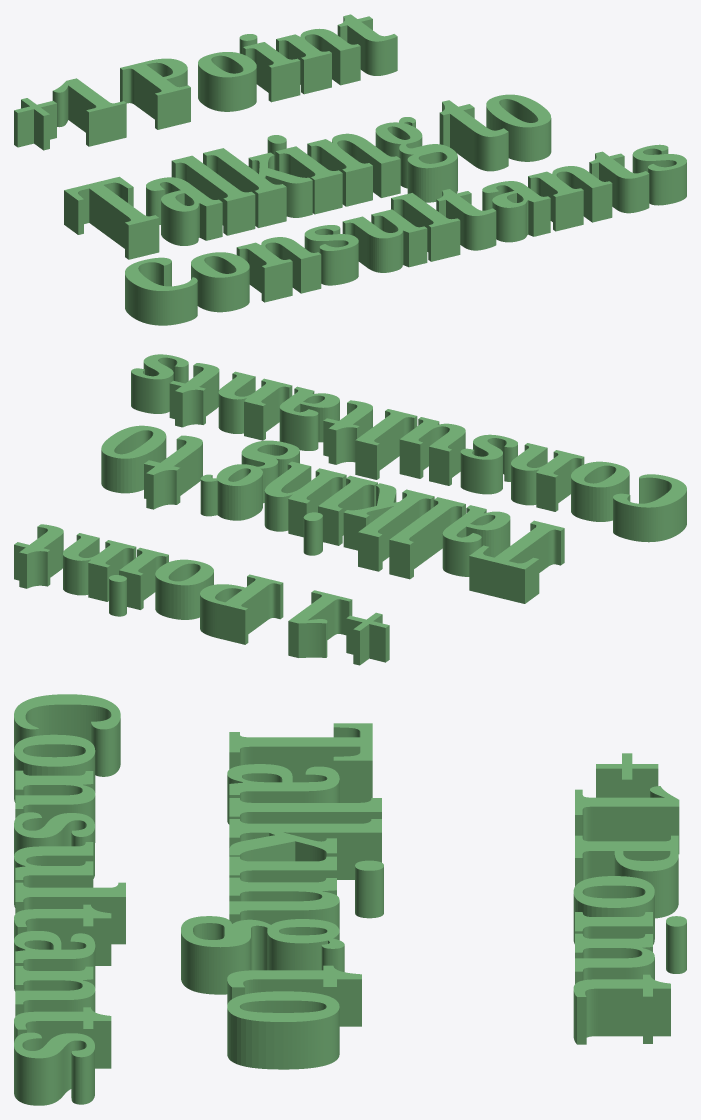
File: posphone.gltf
3 renders of one model, top to bottom at view 1: azimuth 30°, elevation 25°; view 2: azimuth 150°, elevation 25°; view 3: azimuth 270°, elevation 25°, orthographic. The views are drawn at different scales.
Parts seen in each view (by area): view 1: Mesh_Mesh_head_geo001_lambert2SG001; view 2: Mesh_Mesh_head_geo001_lambert2SG001; view 3: Mesh_Mesh_head_geo001_lambert2SG001.
Boxes of the visible parts, left/top/right/bottom form: Mesh_Mesh_head_geo001_lambert2SG001: left=14, top=14, right=686, bottom=325; Mesh_Mesh_head_geo001_lambert2SG001: left=14, top=354, right=686, bottom=665; Mesh_Mesh_head_geo001_lambert2SG001: left=14, top=694, right=686, bottom=1105.
Size of the model in its own units: 165 by 10 by 129.
